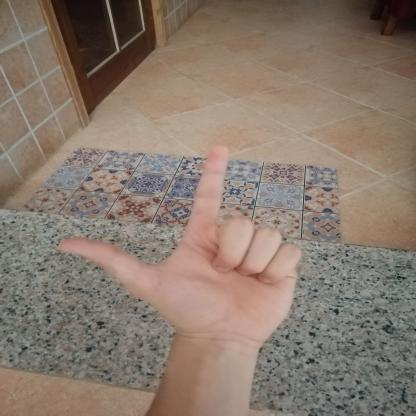LAAM: (40, 132, 310, 360)
